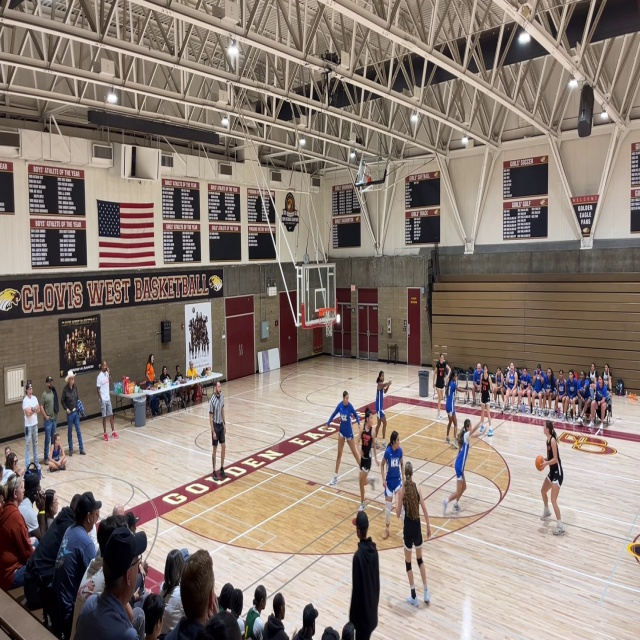Basketball: (535, 455, 544, 471)
